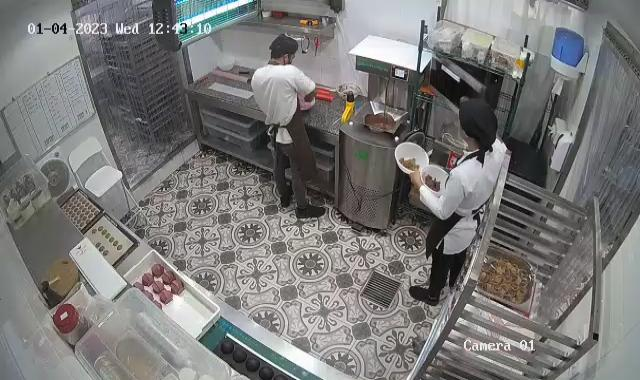no_hairnet: (457, 96, 498, 156), (268, 35, 298, 62)
